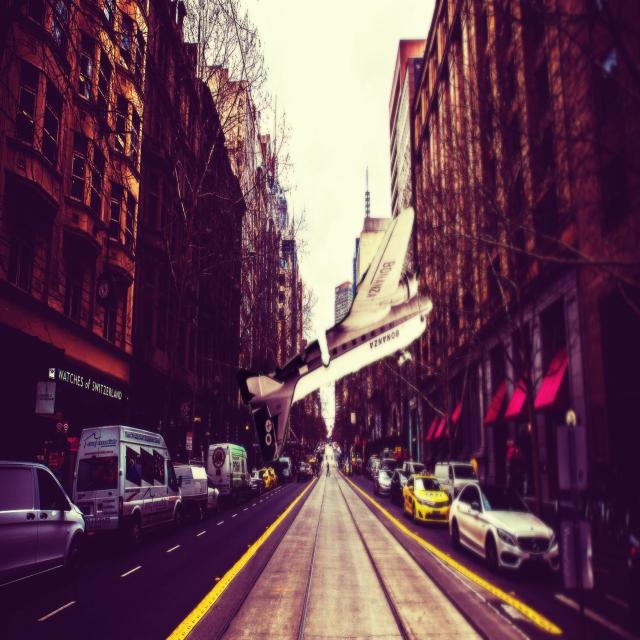airplane: (236, 204, 433, 464)
